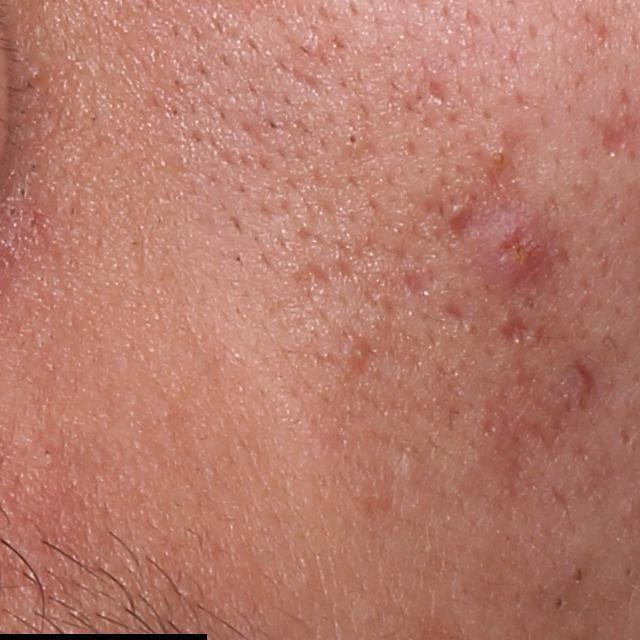atrophic_scar: (594, 112, 637, 161), (497, 309, 535, 346), (567, 354, 596, 399), (426, 75, 454, 106), (400, 265, 427, 293), (445, 300, 473, 322)
comedo: (489, 145, 515, 171), (342, 126, 364, 151), (552, 593, 567, 612), (572, 566, 586, 583)
papule: (478, 214, 556, 293)
